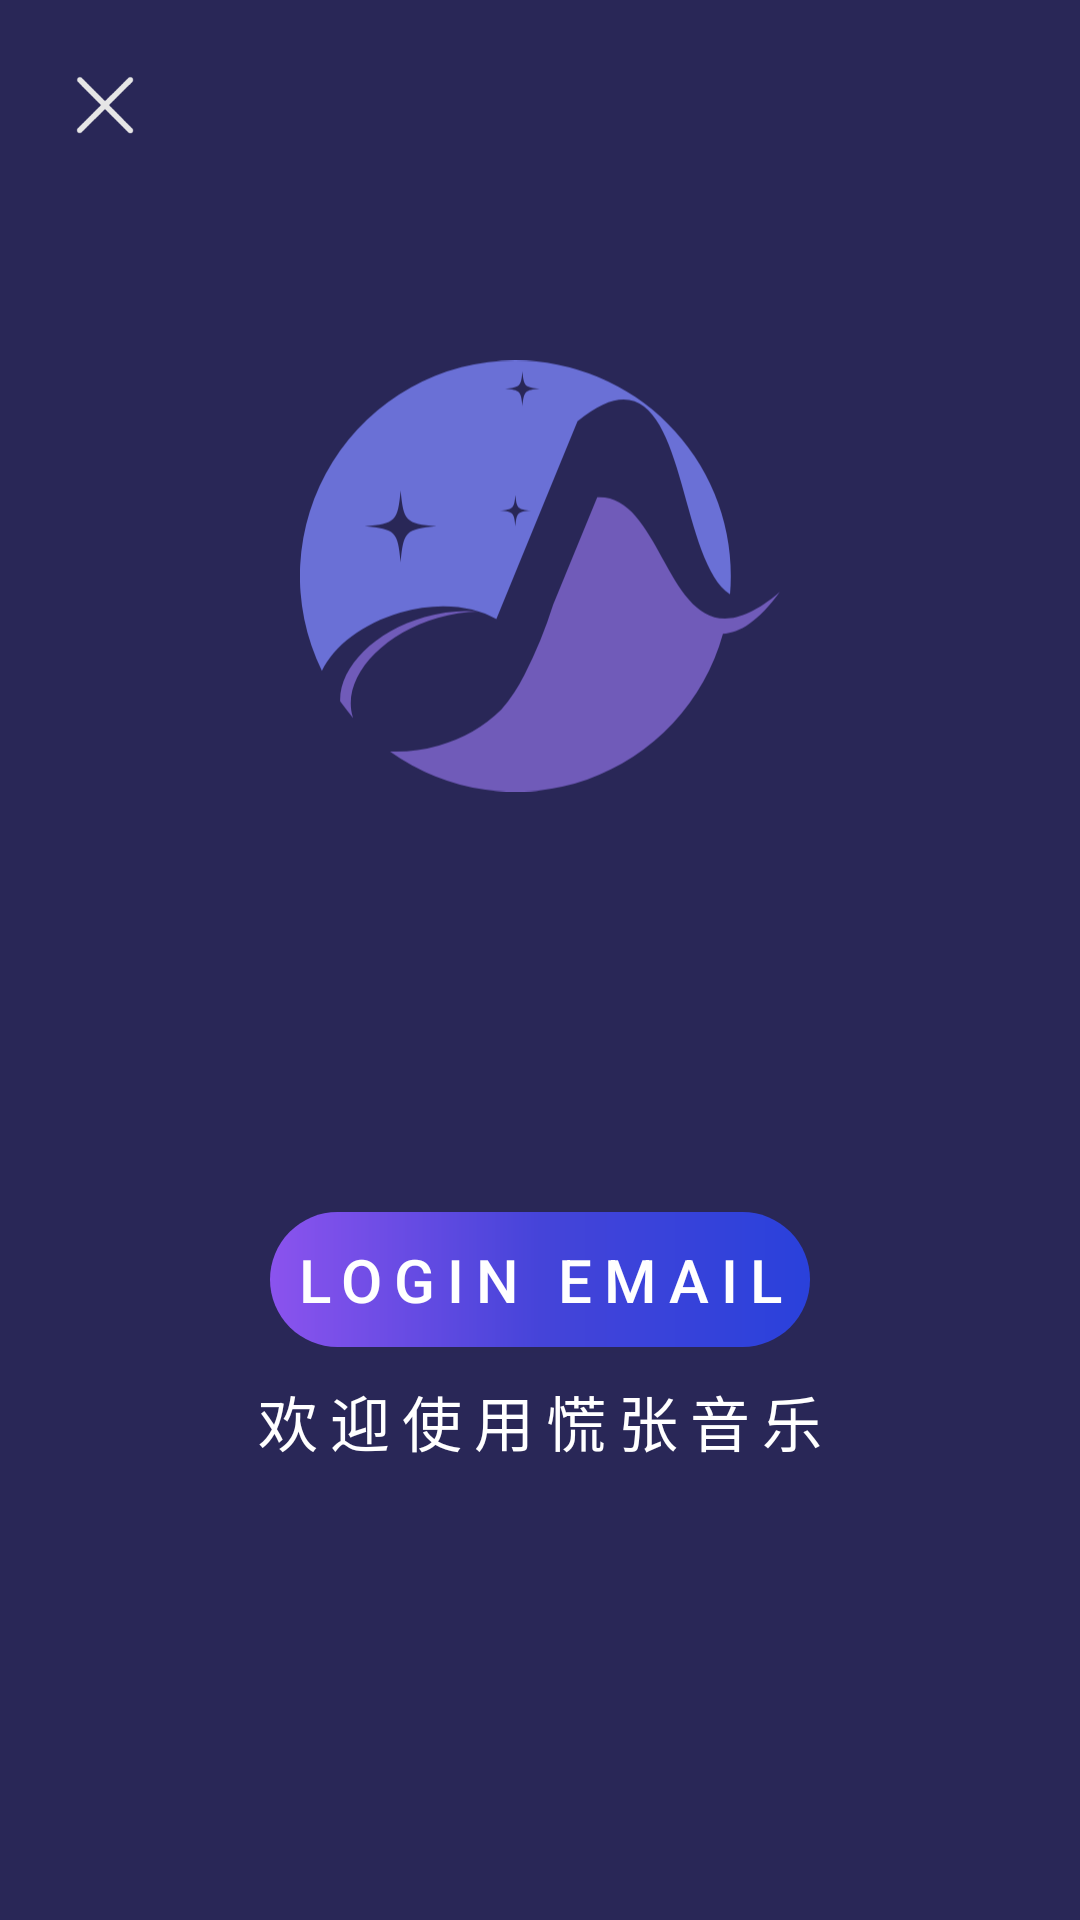

Icon click points for this 1080×1920 phone screenshot, format point (x, y):
close: point (105, 105)
